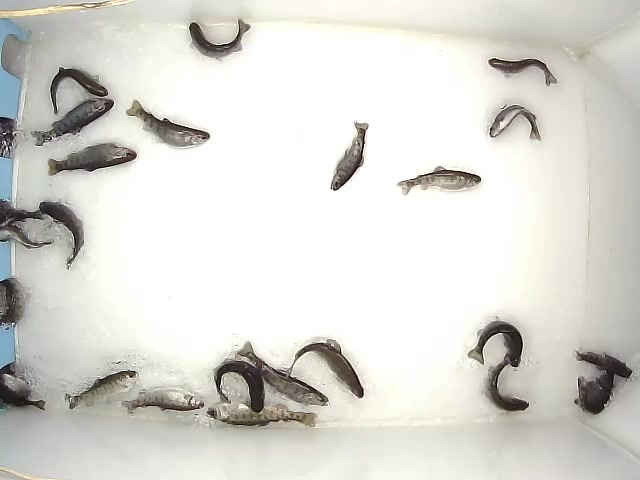fish: (236, 339, 331, 407), (276, 338, 365, 399), (124, 98, 211, 151), (30, 97, 115, 147), (39, 198, 87, 271), (47, 142, 138, 177), (64, 369, 139, 411), (467, 314, 524, 368), (188, 16, 252, 64), (49, 66, 109, 117), (481, 353, 531, 414), (207, 402, 319, 428), (330, 119, 370, 191), (396, 164, 483, 196), (214, 360, 265, 412), (121, 385, 205, 416), (487, 56, 558, 87), (488, 103, 542, 142)
